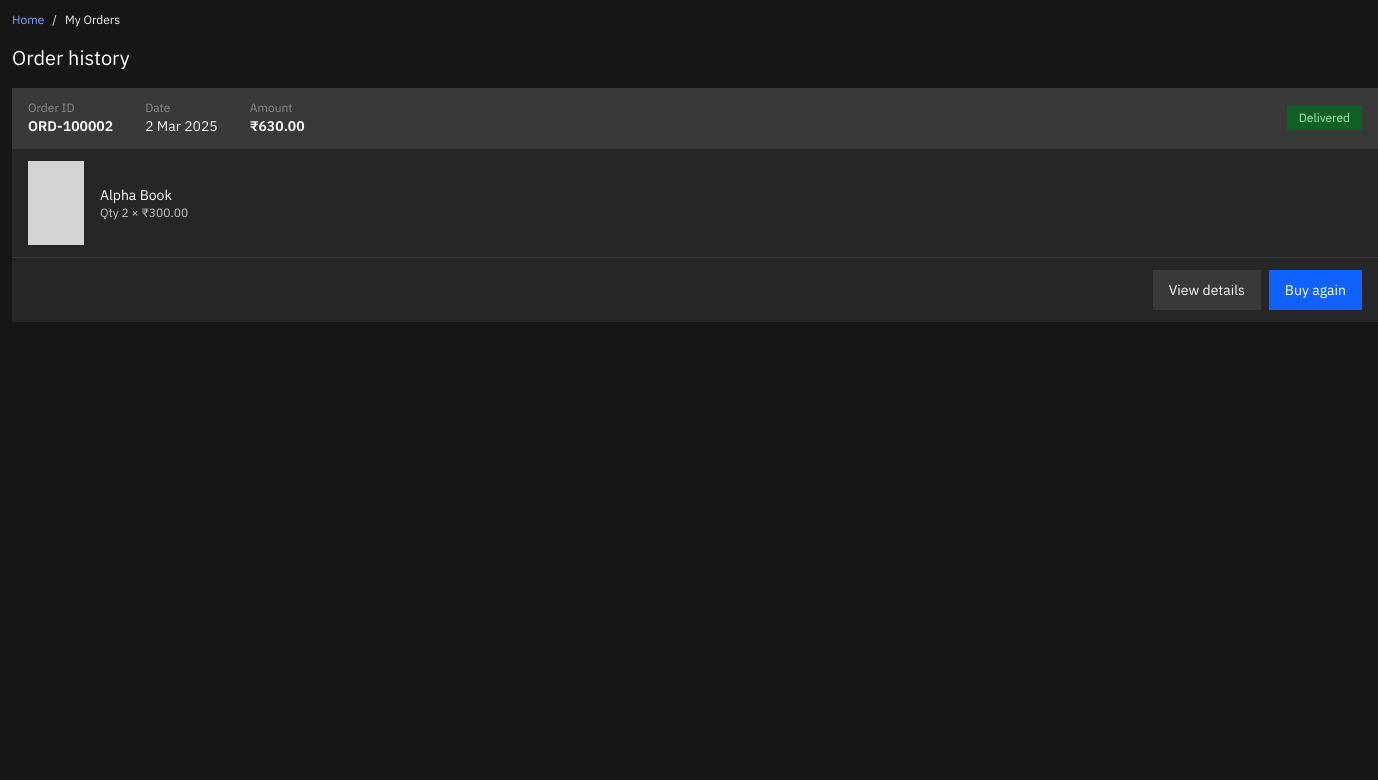
it: OrderHistoryPage › reports an error when Buy again fails and stays on the page
Click the button "Buy again".
click(1315, 290)  # box [1269, 270, 1362, 310]
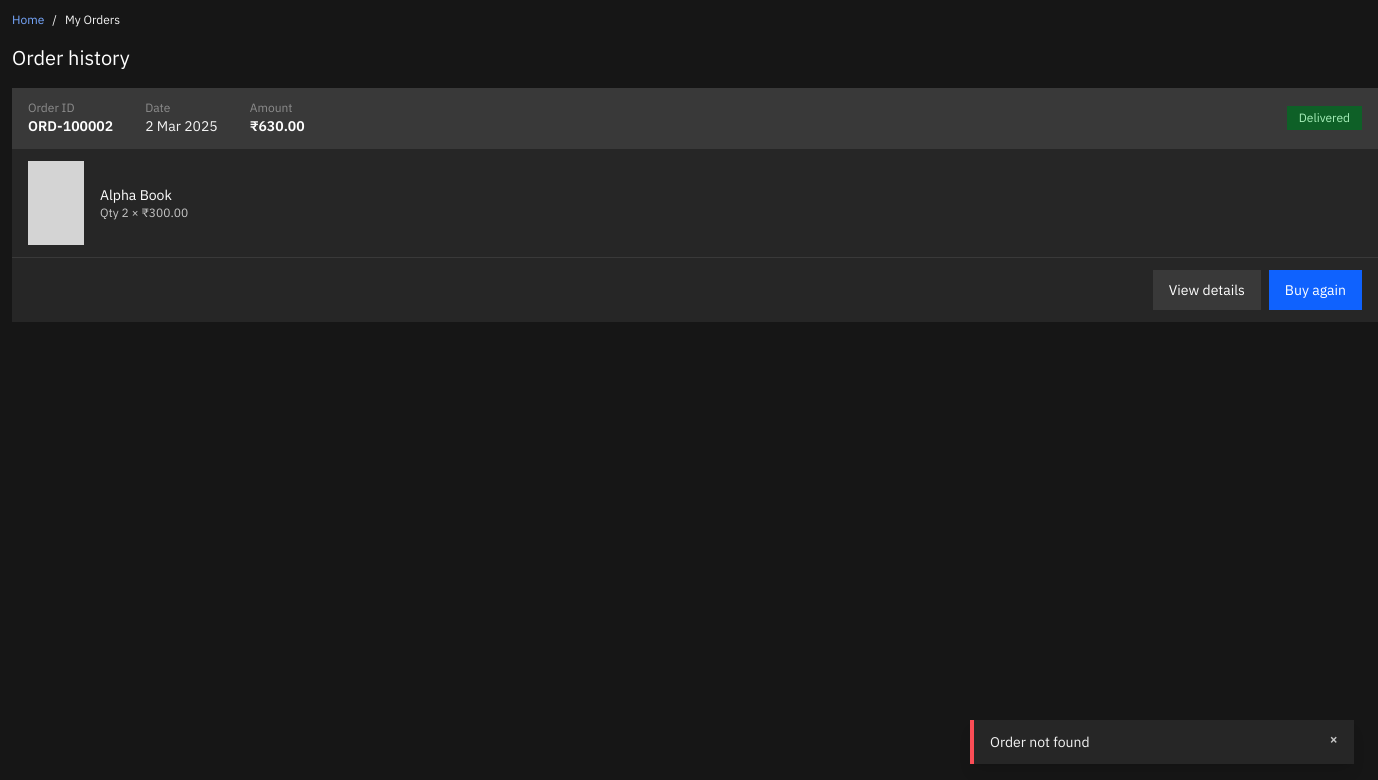
Check: the text "Order not found" is shown, box [990, 733, 1090, 751]
